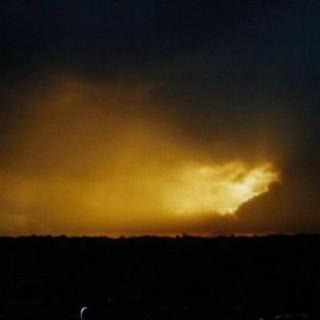Stratocumulus: (0, 0, 320, 228)
